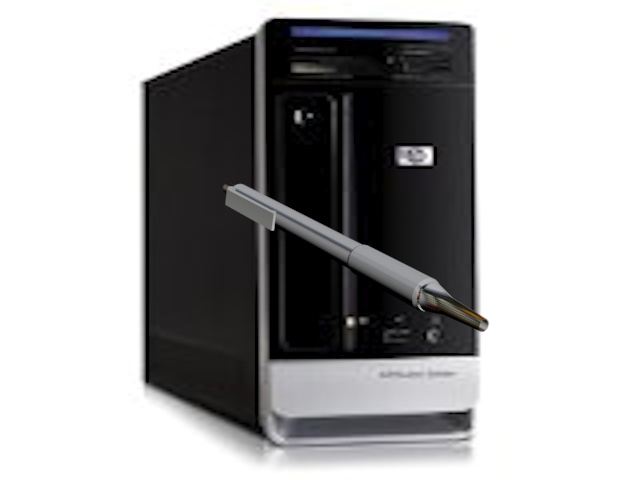pen: (217, 177, 496, 337)
